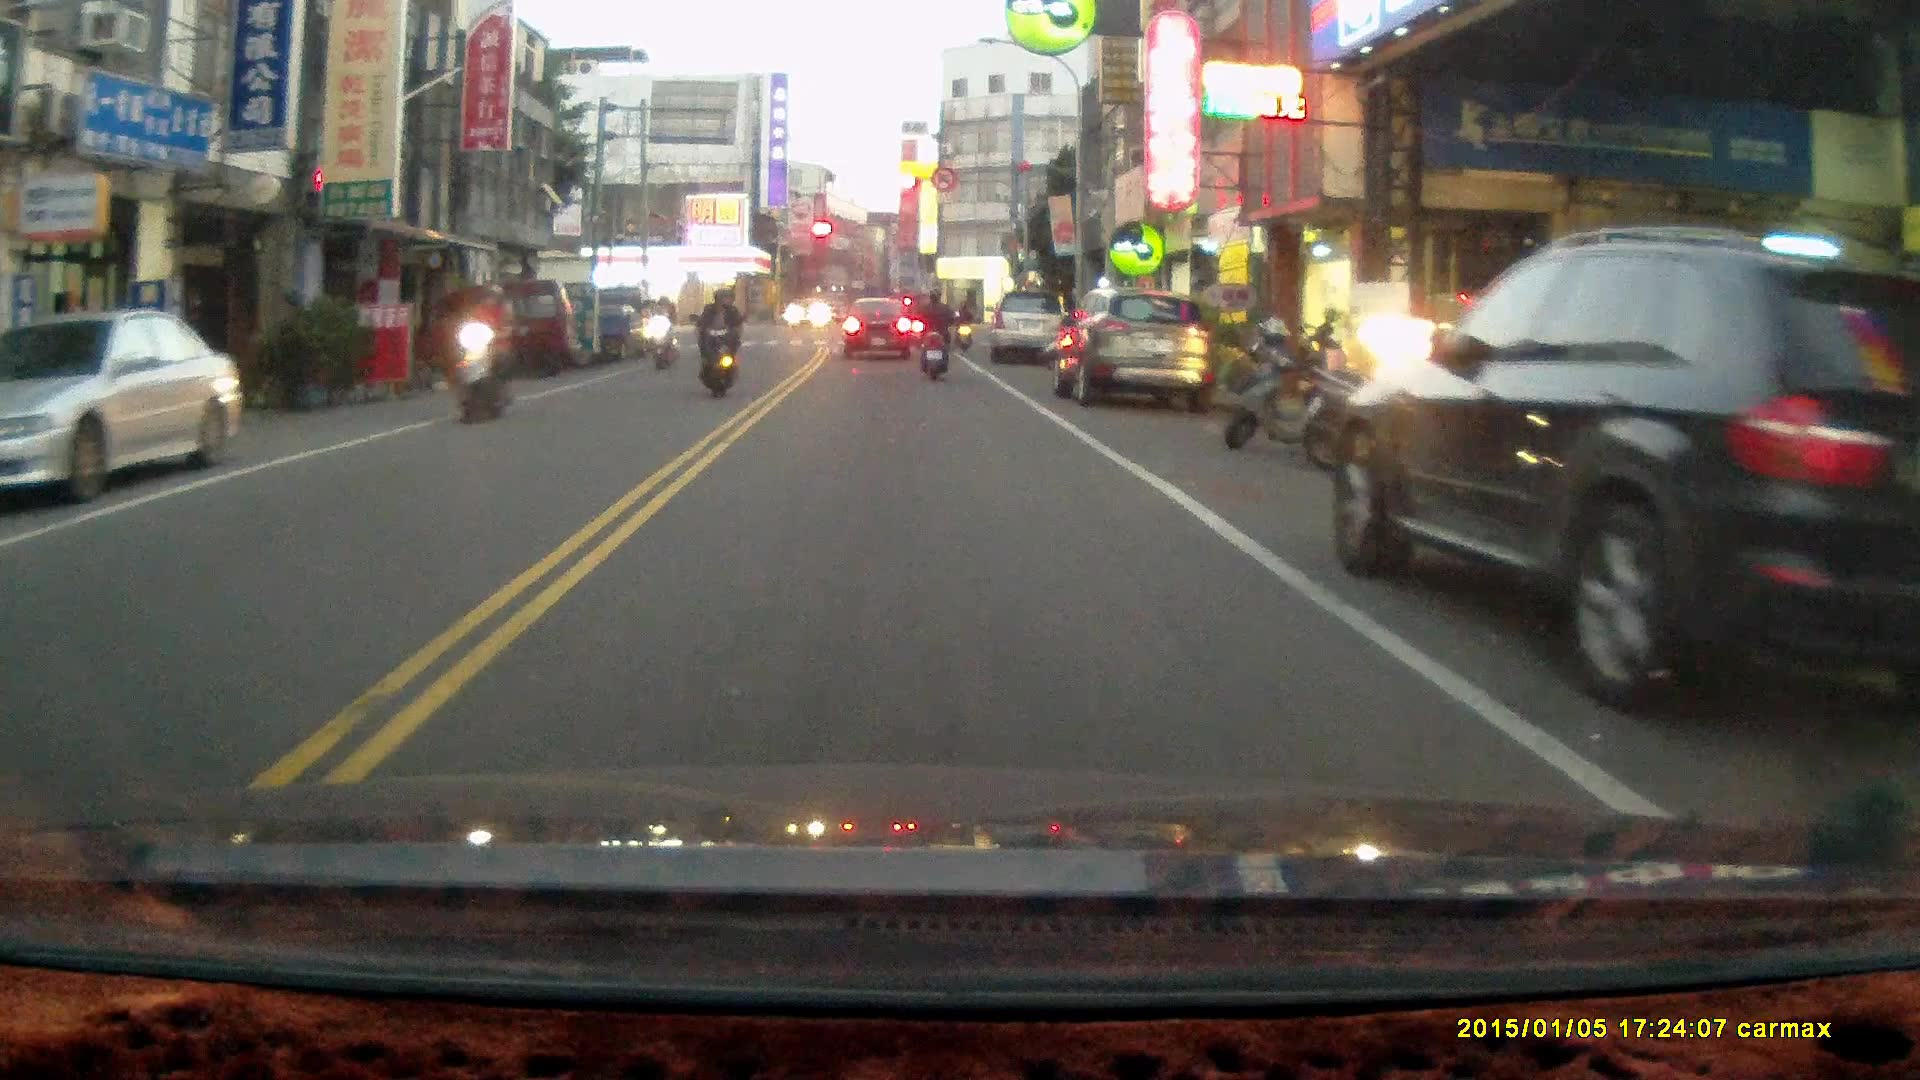rider: (454, 282, 517, 421), (693, 282, 737, 400), (912, 285, 953, 384), (644, 291, 678, 372), (953, 296, 975, 352)
vehicle: (1328, 231, 1920, 749), (1, 311, 252, 505), (1052, 287, 1212, 406), (419, 280, 584, 383), (994, 285, 1073, 363)
